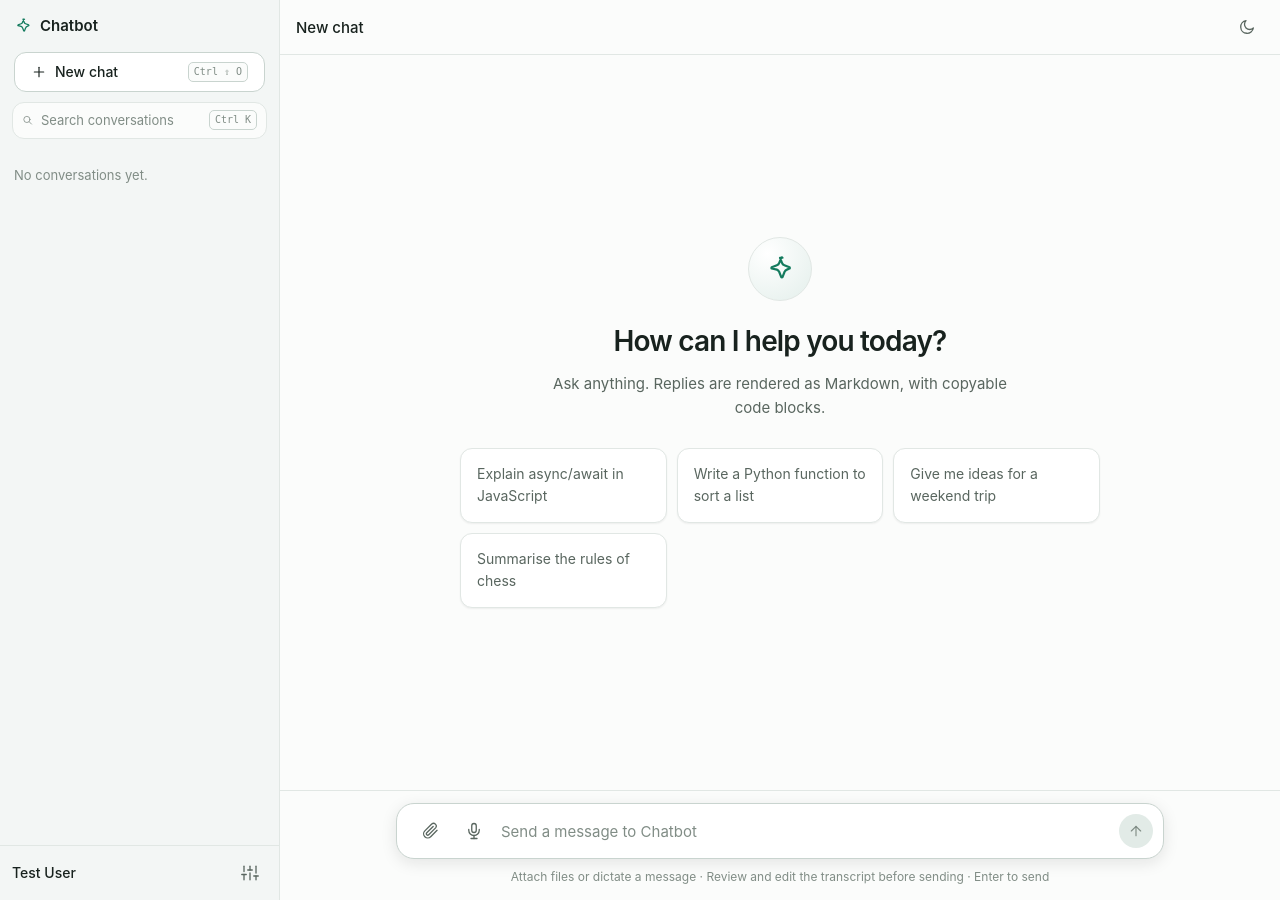
Test case: App › sends the message and renders the assistant reply
Type "How are you?" into the text box labelled "message". click: (805, 832)
box: [501, 817, 1109, 848]
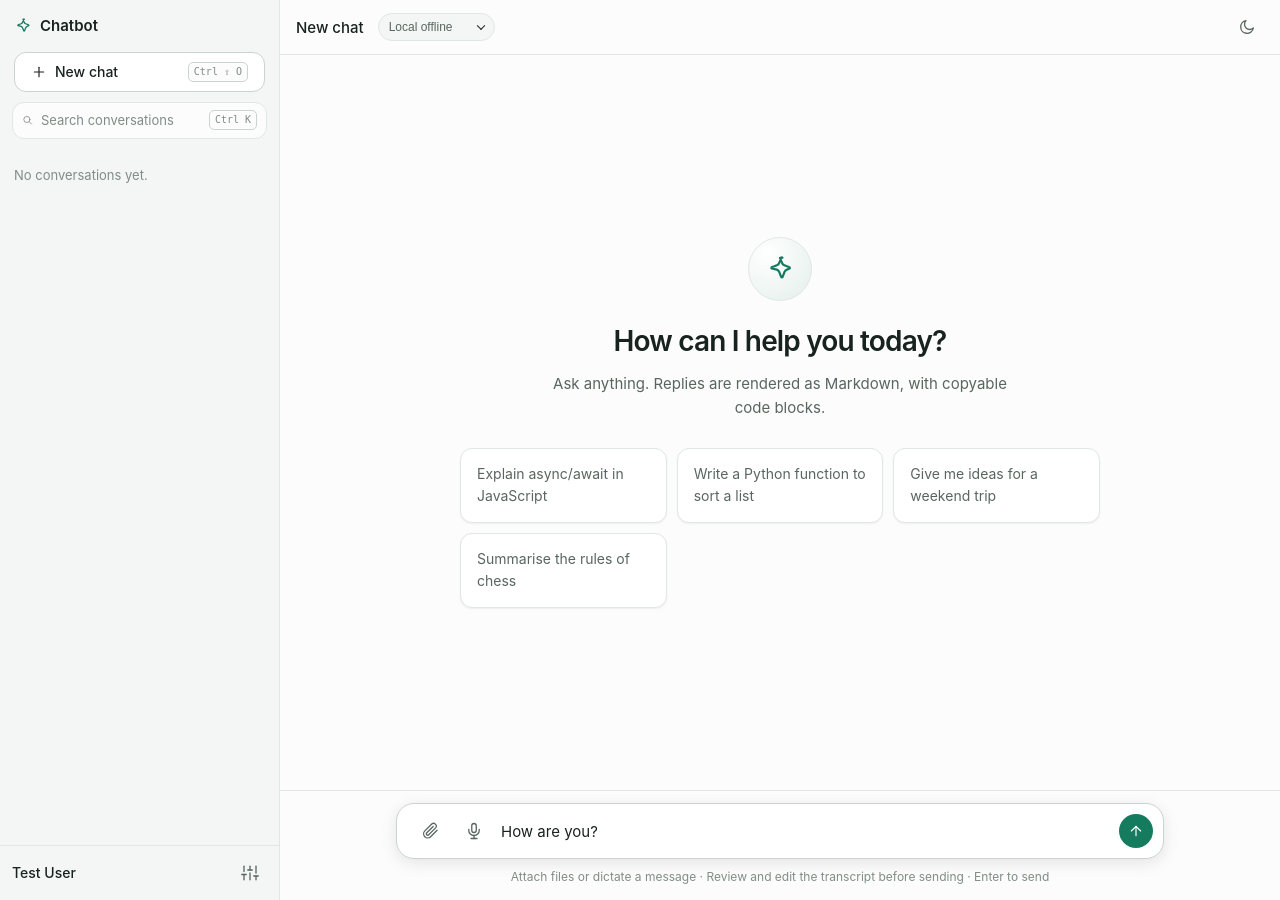
Click the button named "send". click: (1136, 831)
box: [1119, 814, 1153, 848]
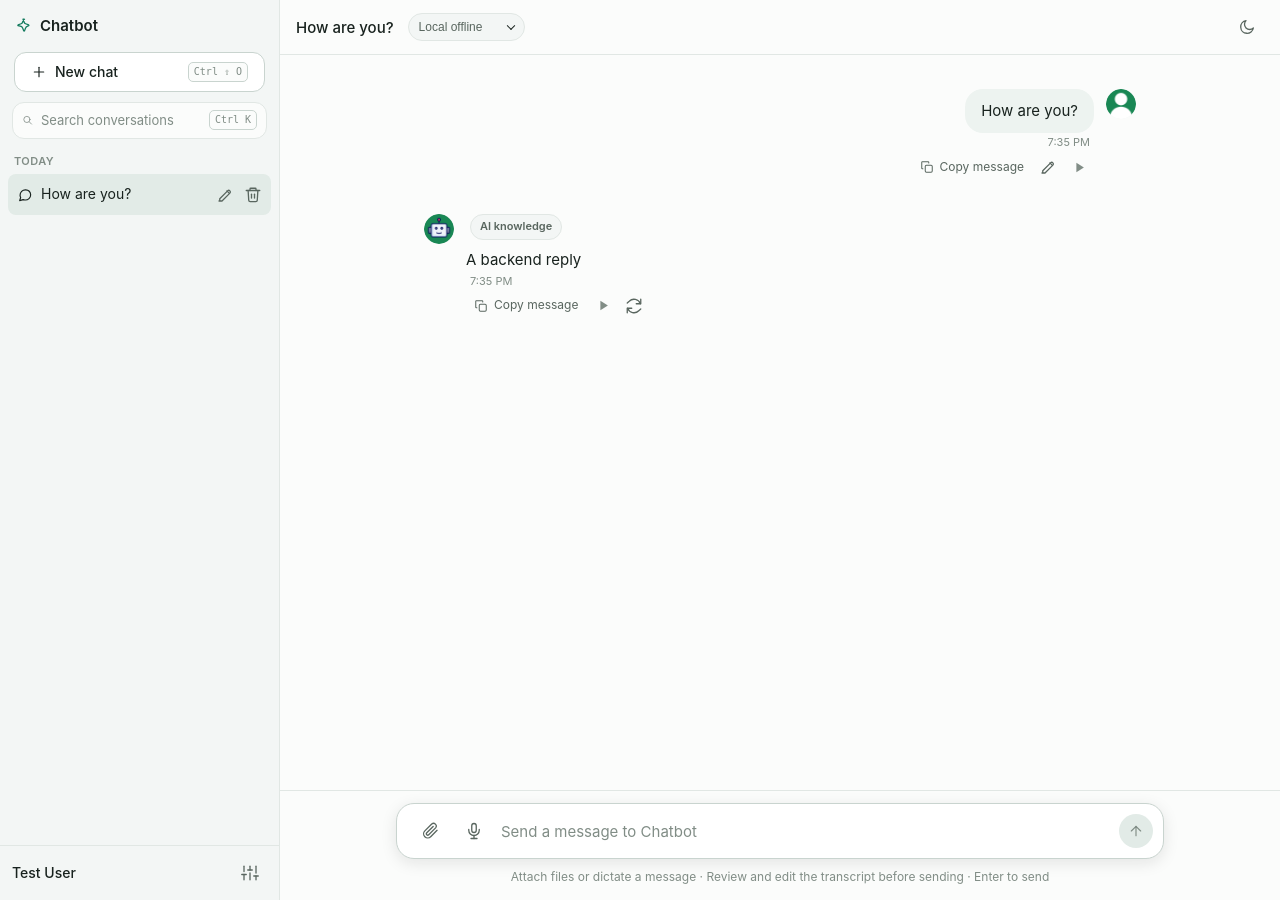
Result: the text "A backend reply" is shown at [466, 250, 581, 269]
Result: the 1st text "How are you?" is shown at [981, 99, 1078, 123]
